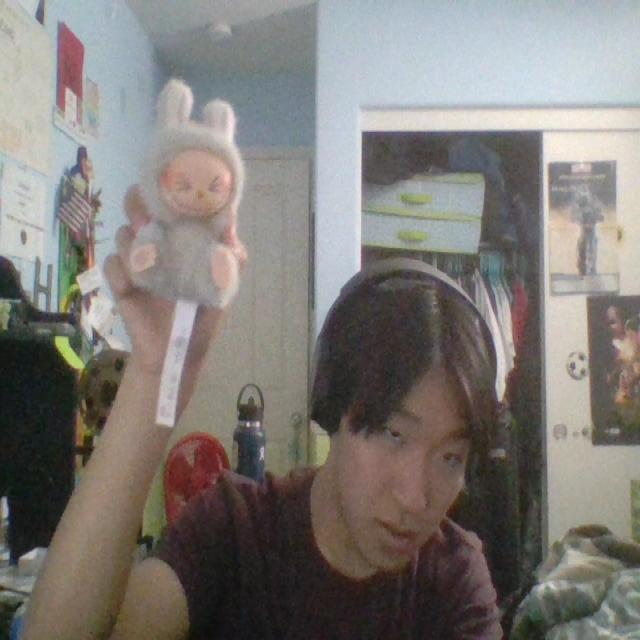labubu: (126, 80, 245, 308)
